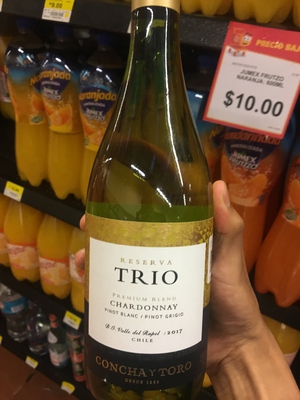trio chardonnay: (78, 18, 227, 400)
